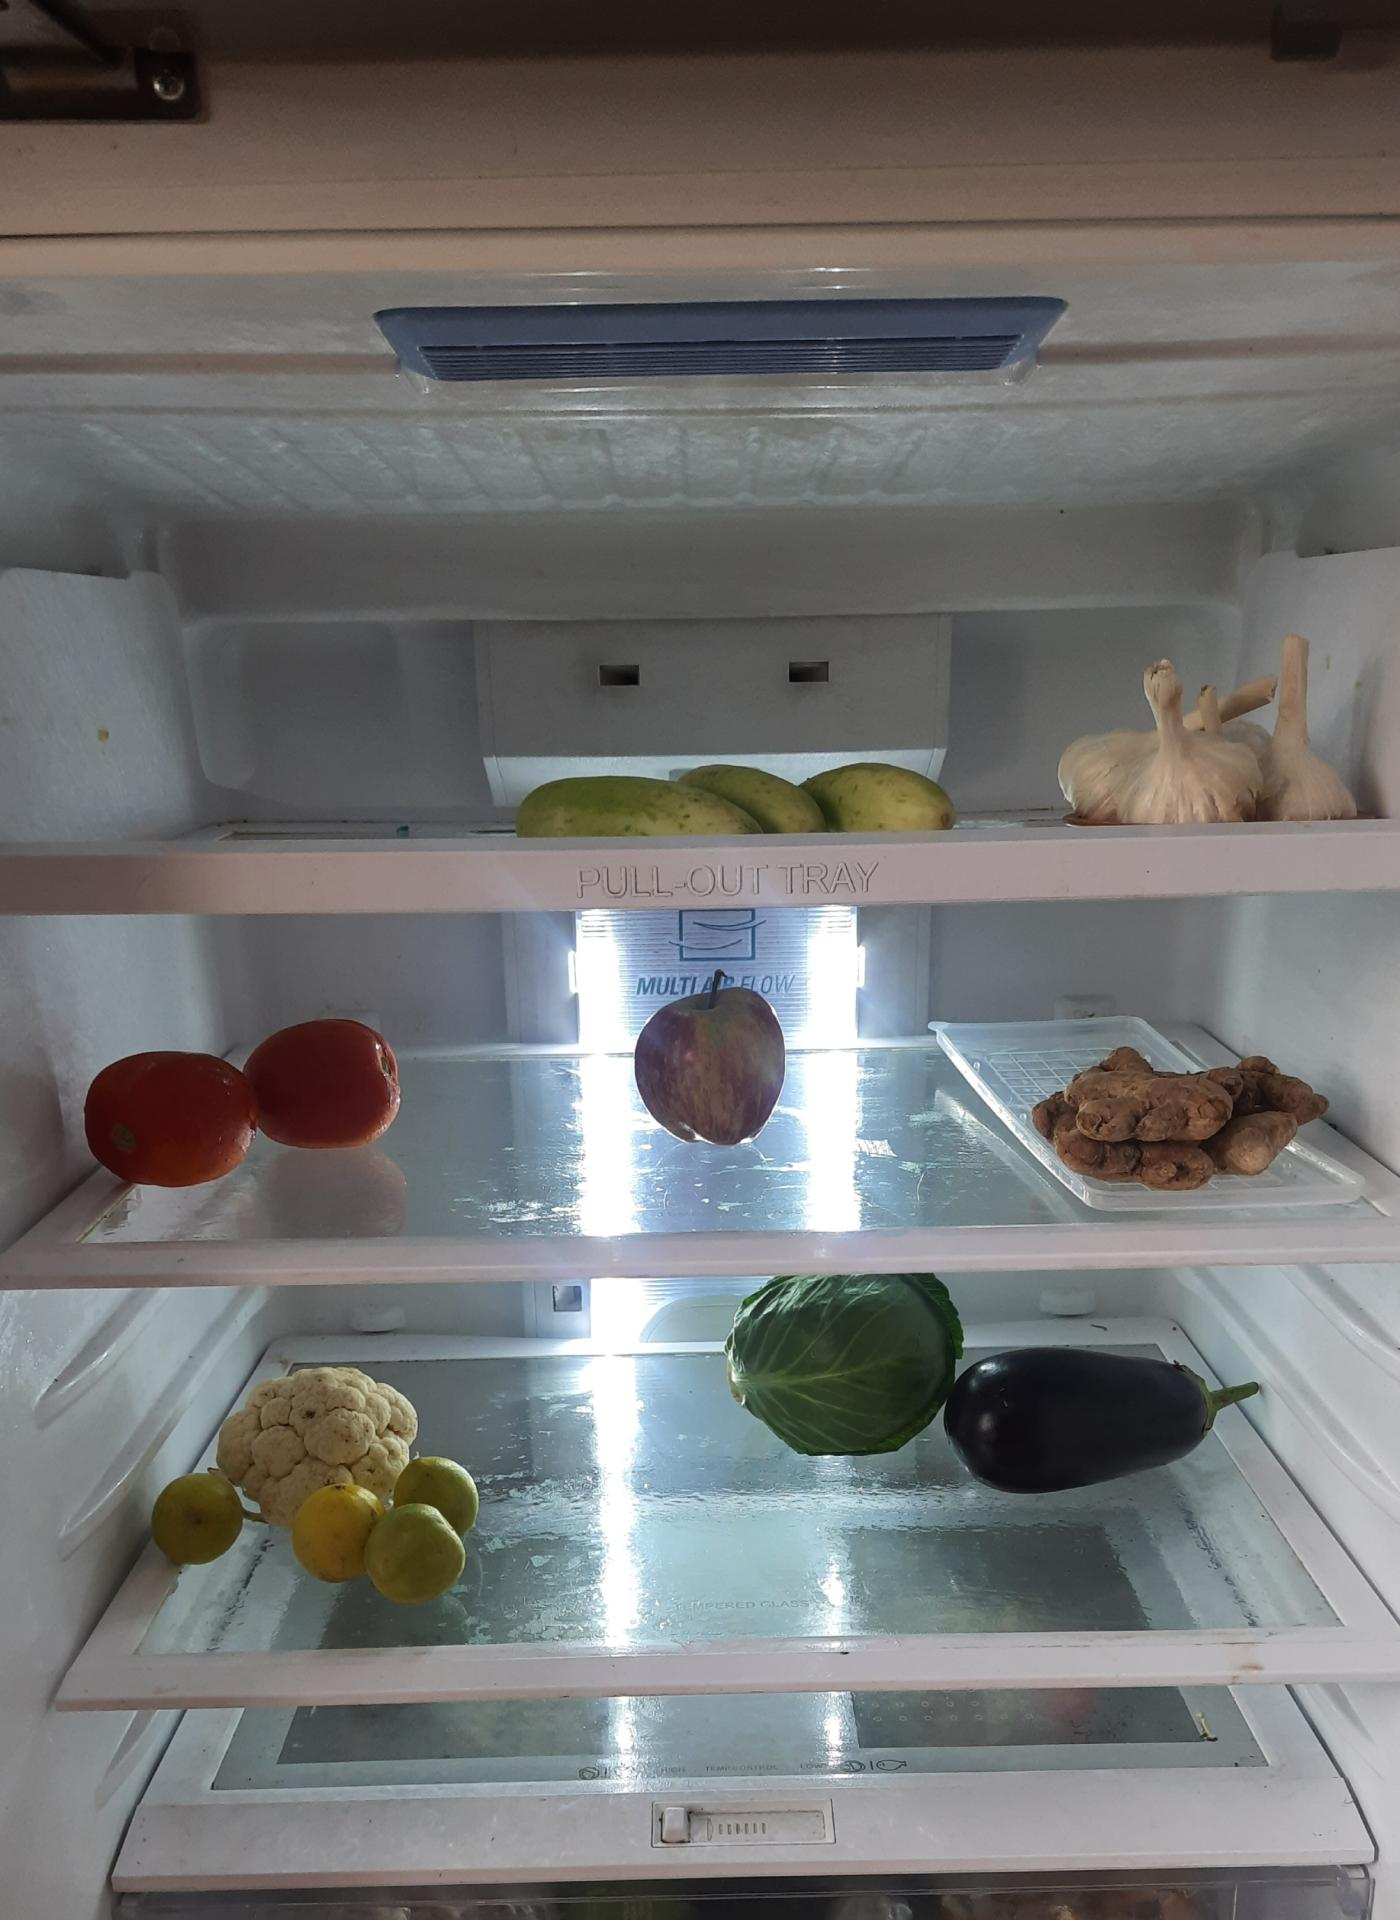apple: (635, 969, 789, 1145)
brinjal: (939, 1334, 1264, 1483)
cabbage: (726, 1276, 960, 1455)
carrots: (1033, 1060, 1333, 1201)
cauliflower: (204, 1362, 416, 1483)
cucumber: (502, 759, 963, 838), (714, 757, 953, 836)
garlic: (1090, 635, 1360, 829), (1237, 629, 1366, 826)
lemon: (297, 1491, 473, 1591)
tomato: (83, 1005, 414, 1176)
